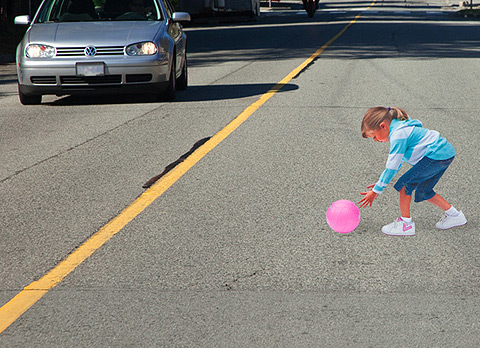Car: (14, 6, 194, 102)
Person: (332, 93, 477, 240)
